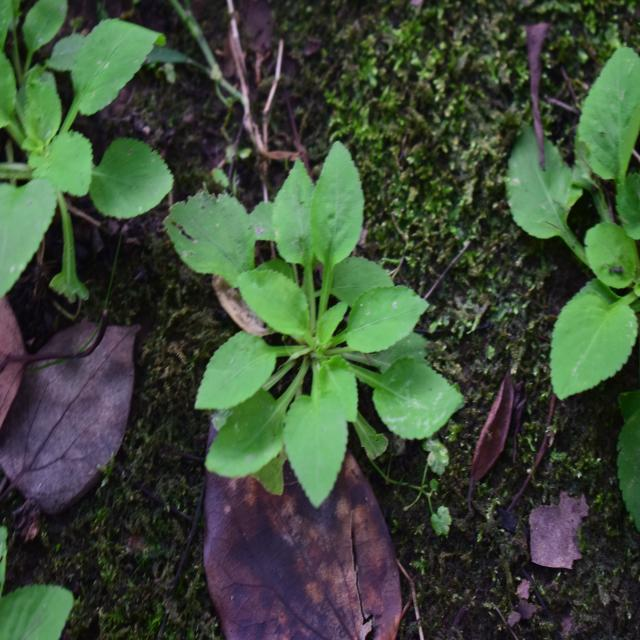Viola: (198, 167, 438, 477)
